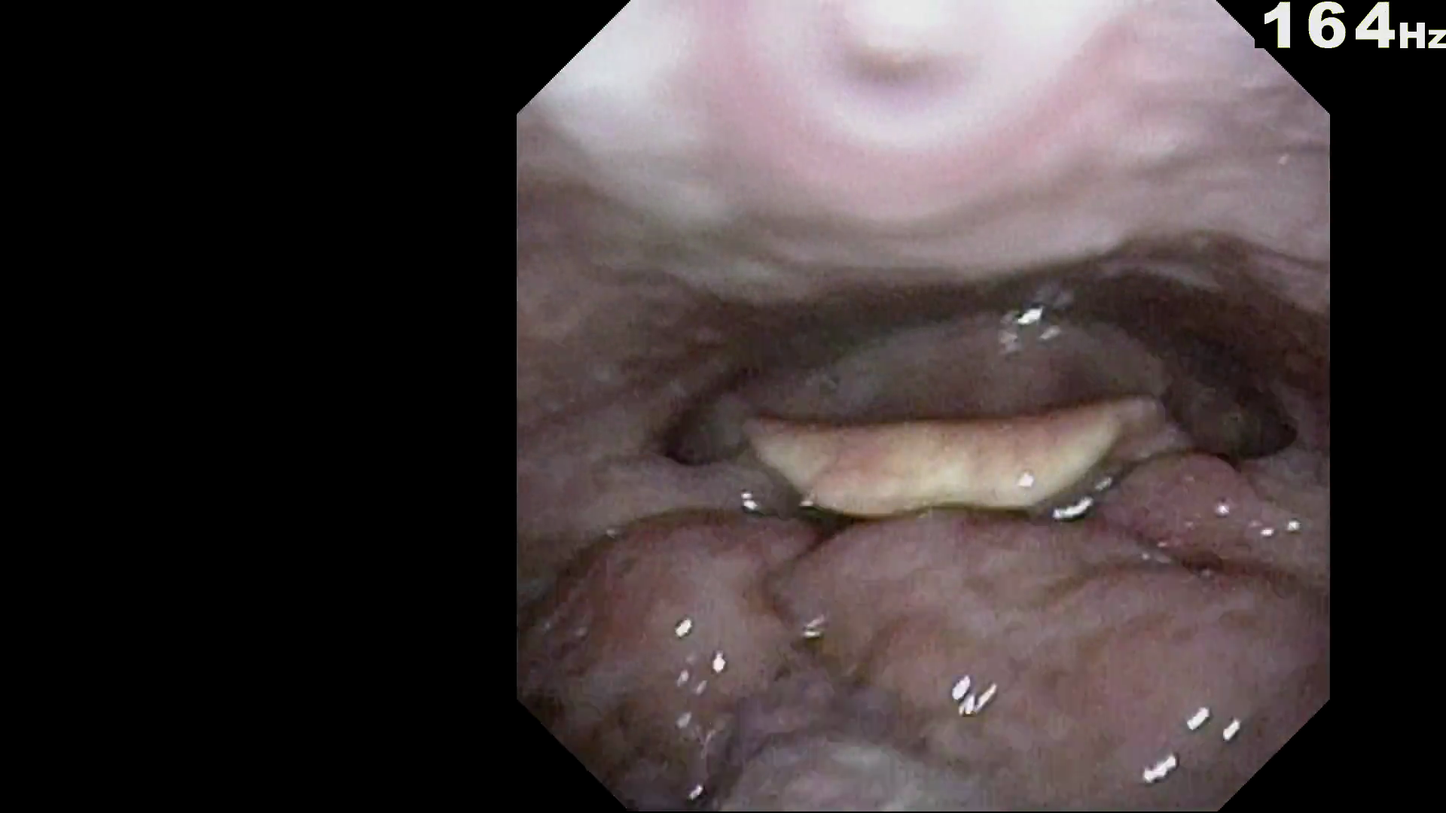epiglottis: (687, 444, 1194, 604)
trachea: (933, 445, 1051, 563)
